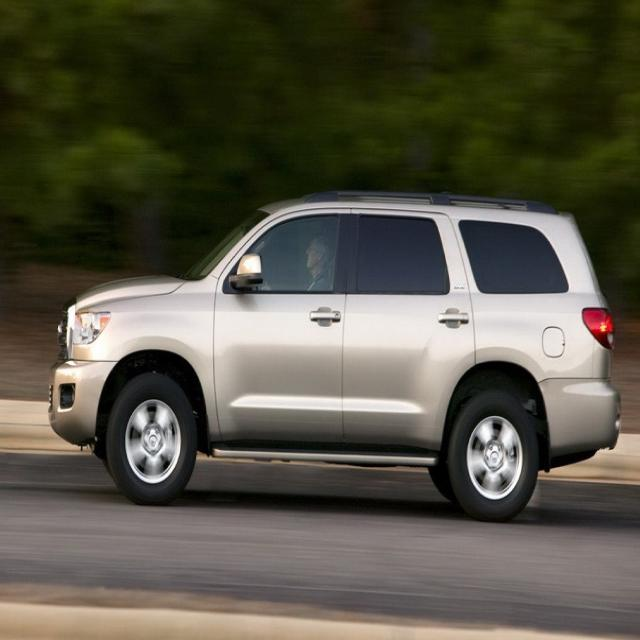back_right_side_light: (579, 302, 614, 348)
door: (342, 206, 472, 464)
front_bumper: (48, 354, 114, 444)
front_right_side_door: (210, 200, 355, 462)
front_right_side_light: (69, 307, 110, 351)
front_right_side_mirror: (233, 248, 264, 296)
rear_bumper: (538, 372, 626, 465)
wheel: (110, 375, 196, 500), (452, 392, 536, 510)
